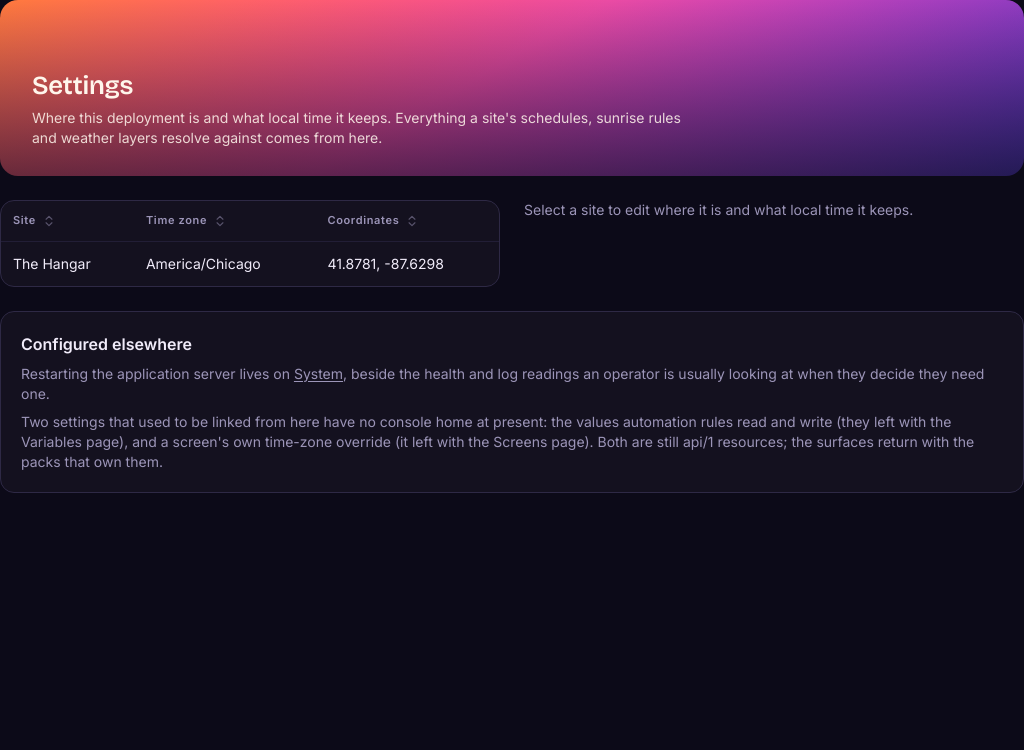
Test: Settings — saving a site, driven › PATCHes tz, lat, long and name together under an If-Match, and says what changed
The image size is (1024, 750).
expect the table named "Sites" is shown: met, box x1=1 y1=201 x2=499 y2=286
Click the button "The Hangar". click: [250, 263]
box: x1=1 y1=241 x2=499 y2=286
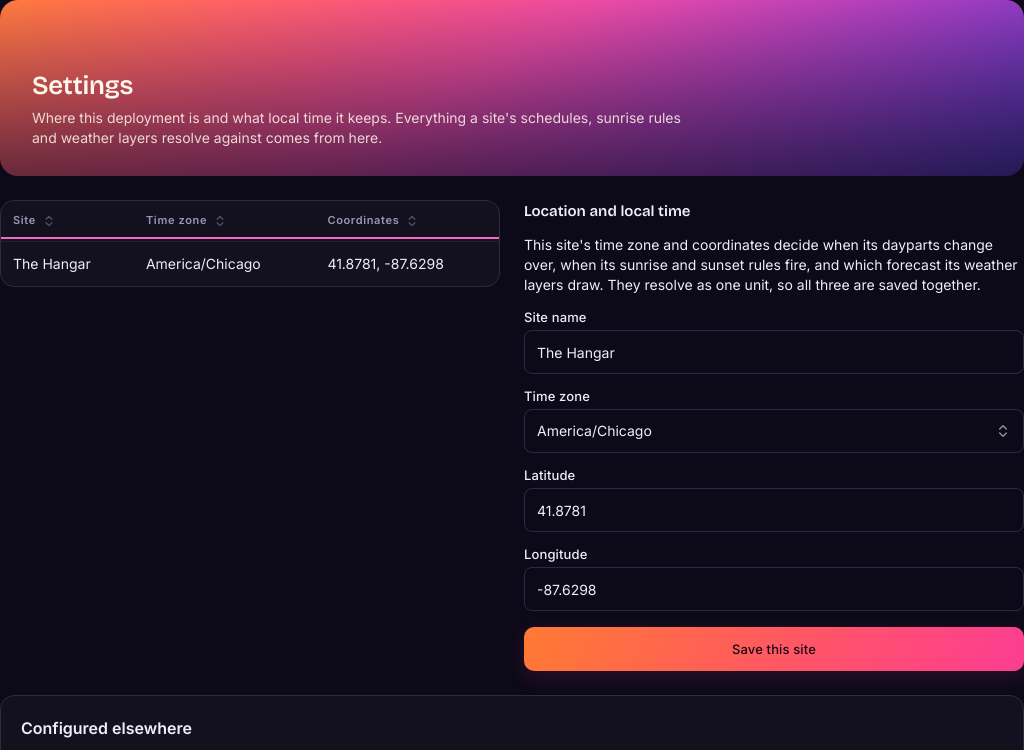
expect the field labelled "Site name" is shown: met, box x1=524 y1=330 x2=1023 y2=374
Click the dropdown named "Time zone". click: [594, 431]
box: x1=524 y1=409 x2=1023 y2=453
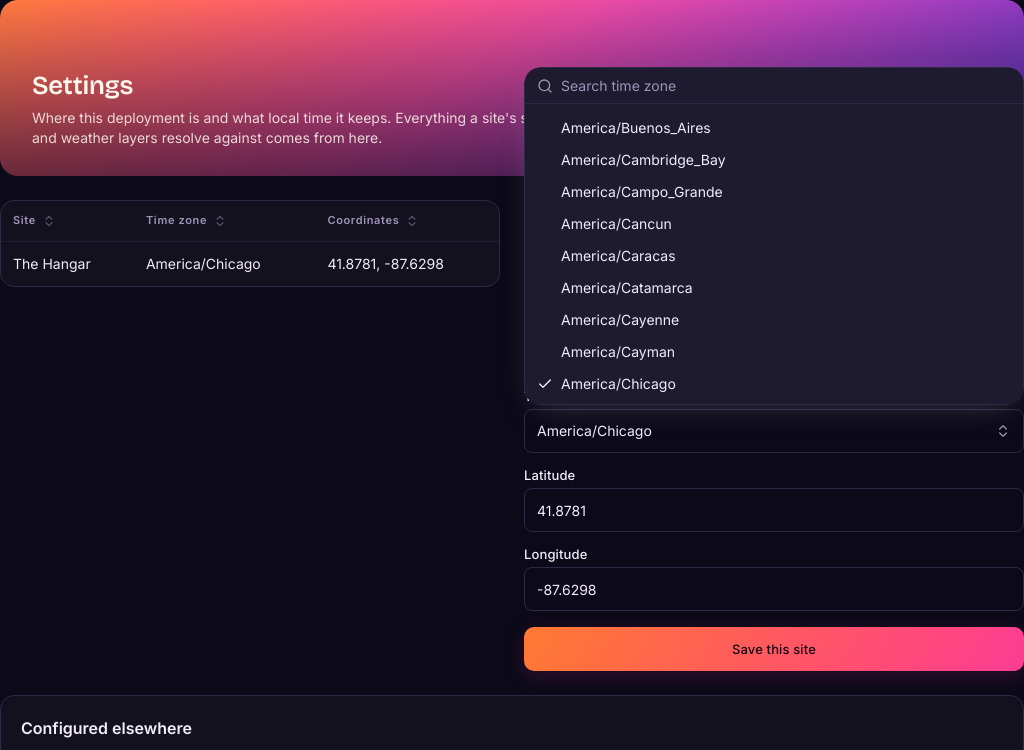
Type "Europe/London" into the dropdown with placeholder "Search time zone". click: [786, 86]
box: x1=561 y1=66 x2=1011 y2=106
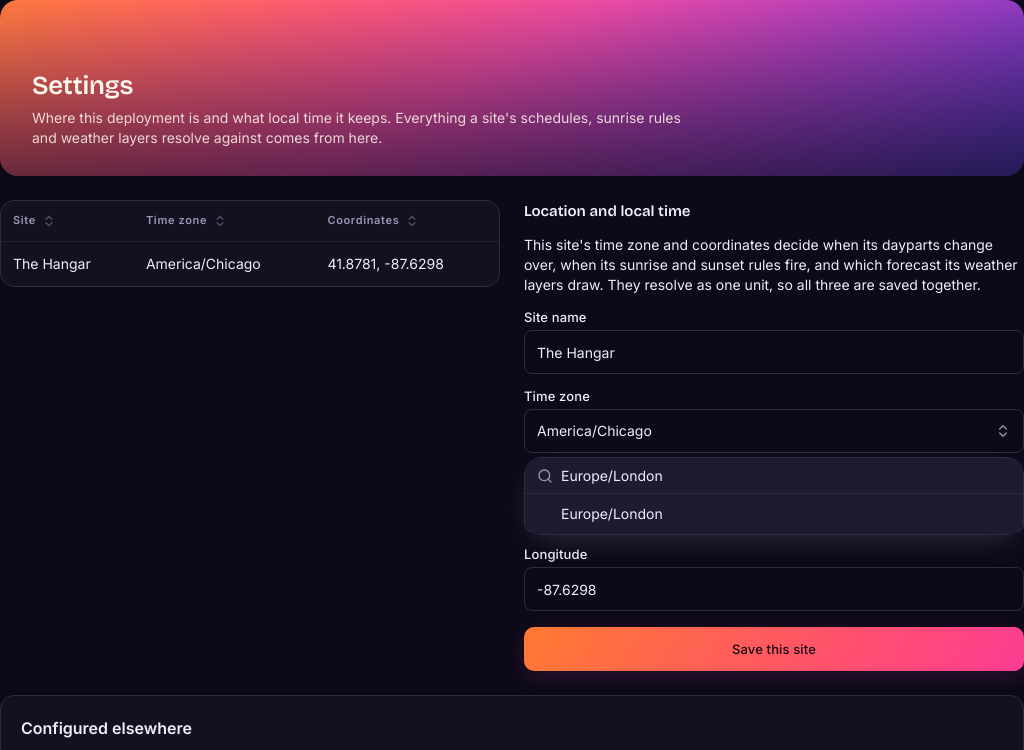
Click the option "Europe/London". click: [612, 514]
box: x1=529 y1=498 x2=1019 y2=530
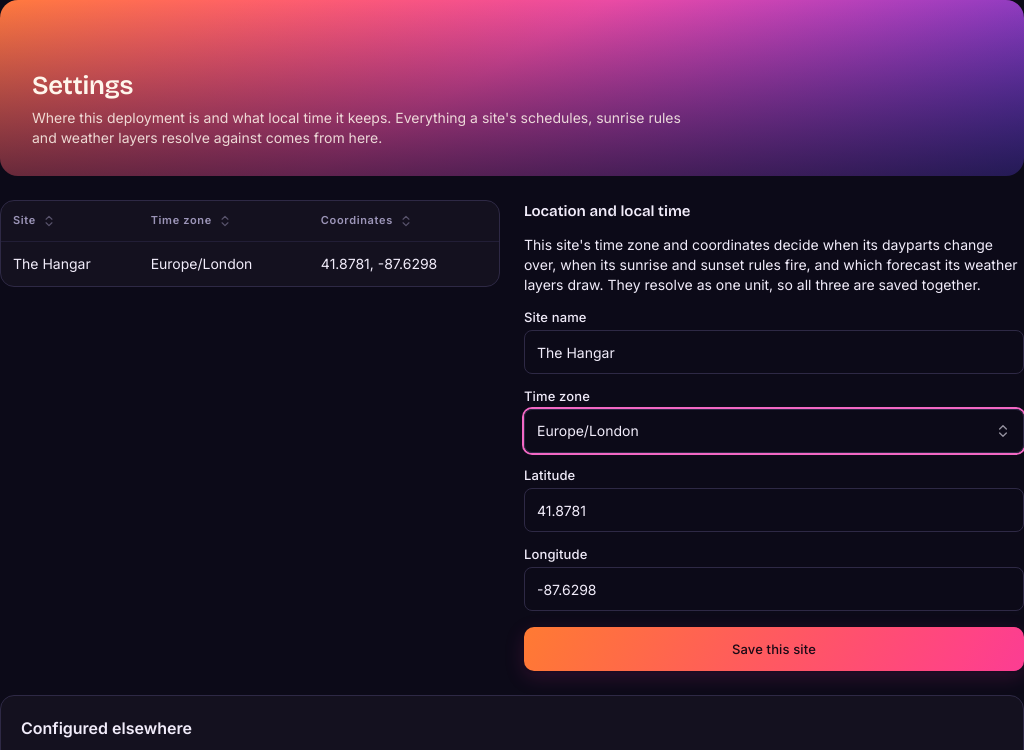
expect the dropdown named "Time zone" reads "Europe/London": met, box x1=524 y1=409 x2=1023 y2=453
Click the button "Save this site". click: [774, 649]
box: x1=524 y1=627 x2=1023 y2=671
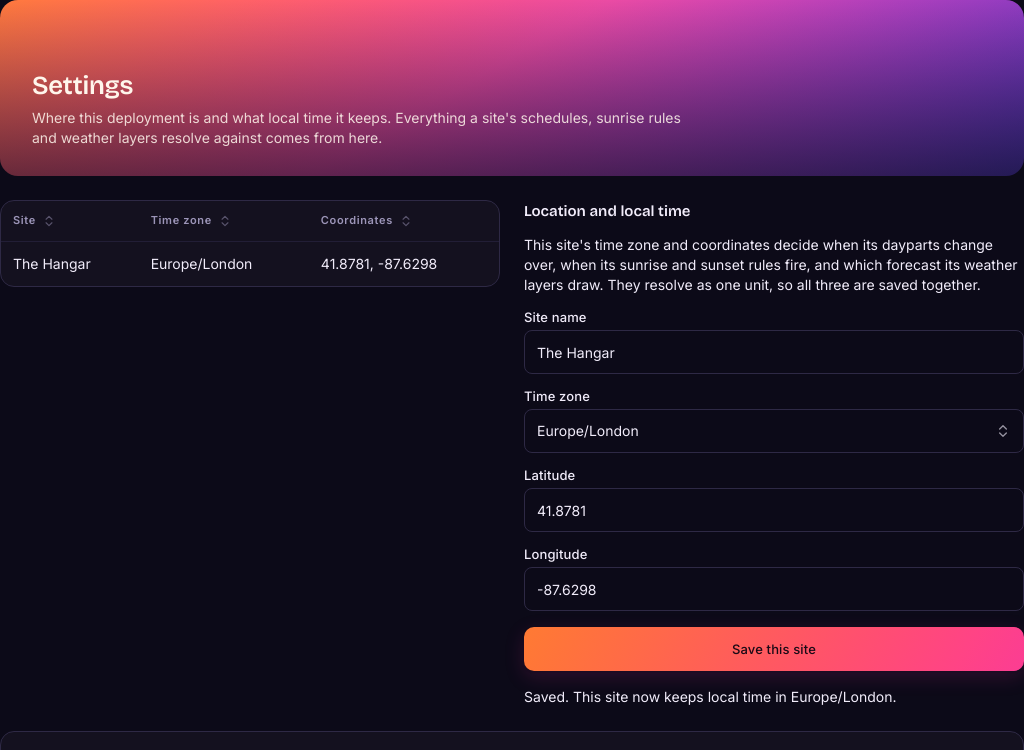
expect the text "Saved. This site now keeps local time in Europe/London." is shown: met, box x1=524 y1=688 x2=896 y2=705
